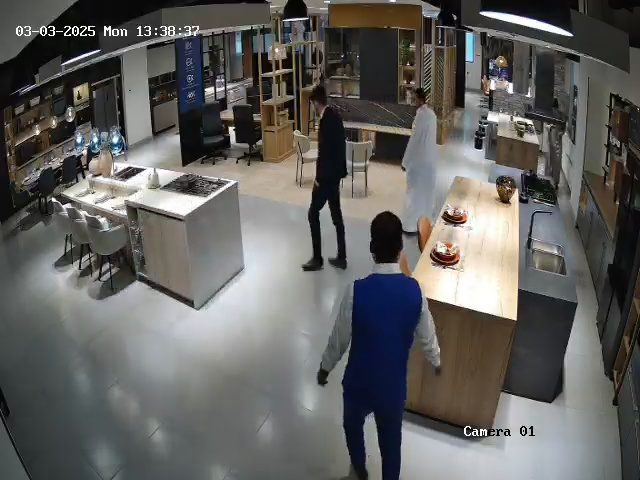employee: (316, 211, 442, 480), (301, 86, 349, 272)
male: (400, 88, 439, 234)
